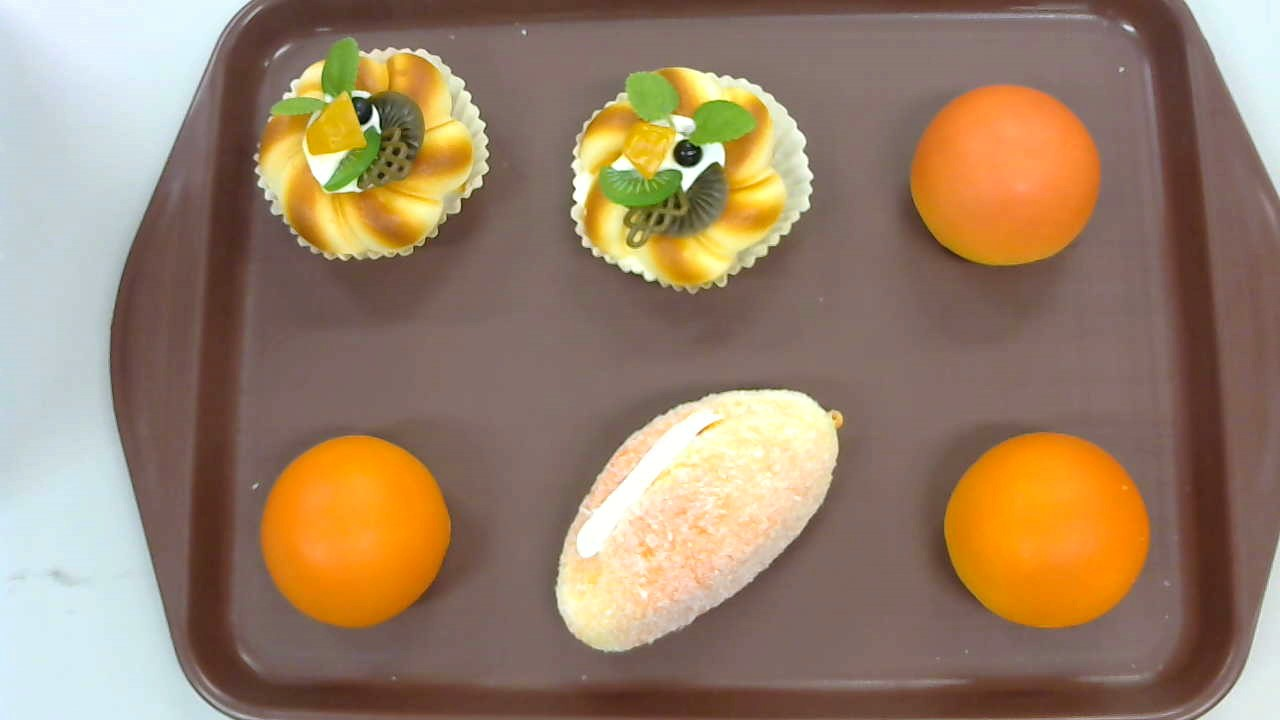bun: (942, 433, 1150, 630), (260, 435, 449, 630), (909, 84, 1102, 266)
coconut: (553, 387, 845, 652)
fruit tart: (570, 65, 814, 295), (251, 34, 489, 263)
